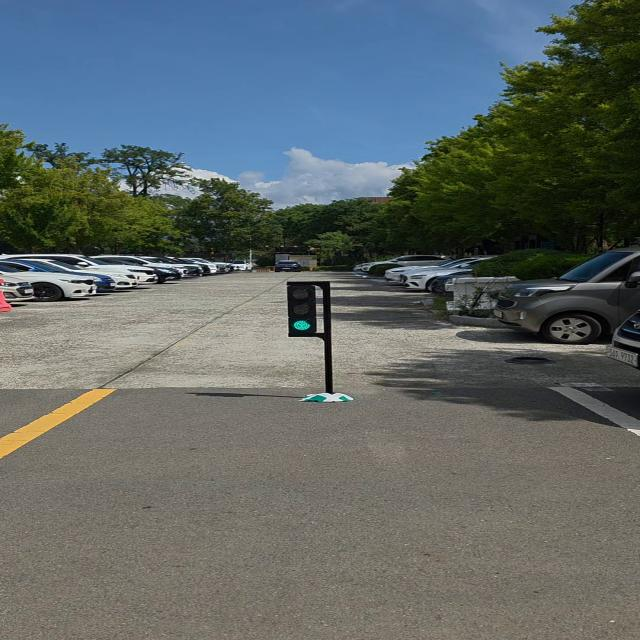green: (287, 280, 320, 338)
